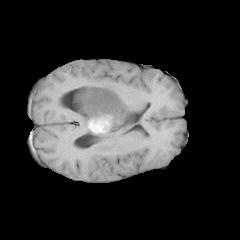glioma: (74, 84, 134, 135)
